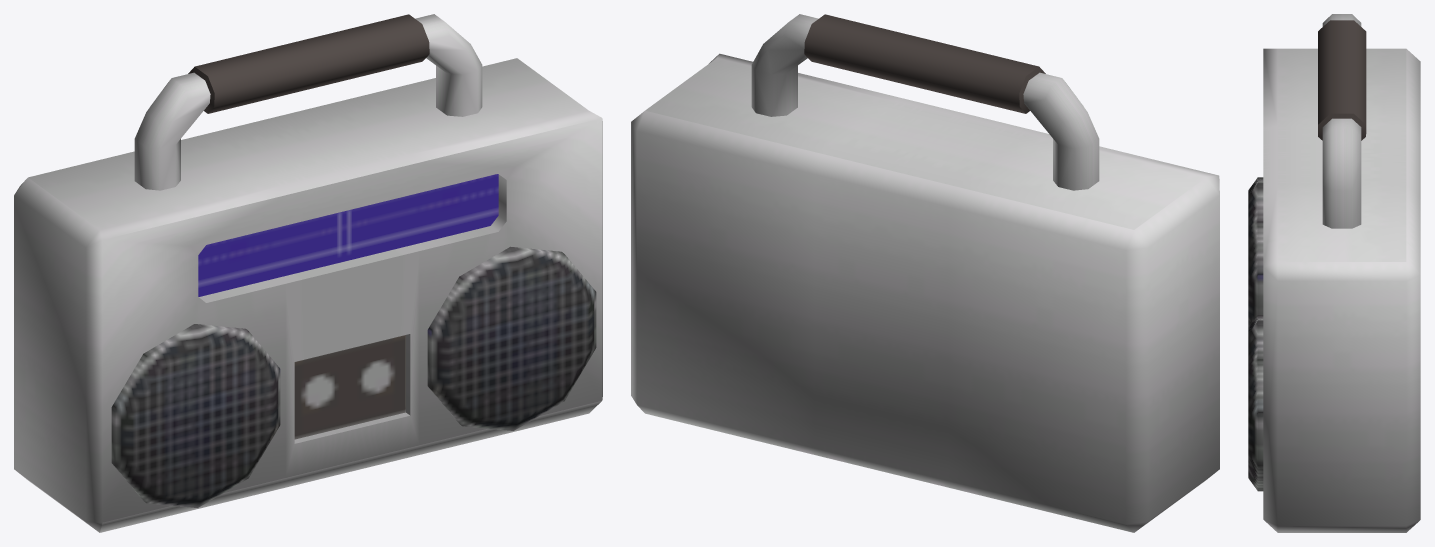
The model's file is BoomBox.fbx.
The picture shows the model from 3 angles, left to right: view 1: azimuth 30°, elevation 25°; view 2: azimuth 150°, elevation 25°; view 3: azimuth 270°, elevation 25°; orthographic projection. The views are drawn at different scales.
Parts seen in each view (by area): view 1: Box; view 2: Box; view 3: Box.
Part boxes in pixels (x1,y1,x2,y2): Box: (14,14,602,532); Box: (631,14,1219,532); Box: (1248,14,1420,532).
Bounding box in the file's own units: 1.14 × 0.844 × 0.3672.
